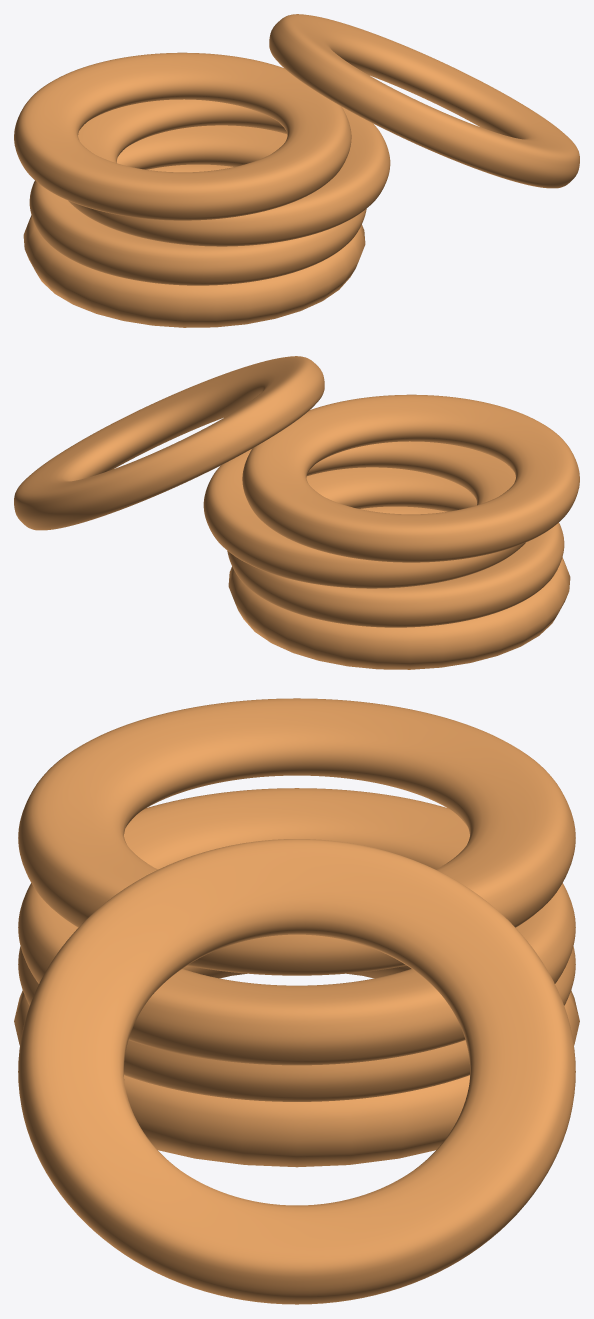
Rendered from shakra rings.glb.
3 views of the same model, one above another, from view 1: azimuth 30°, elevation 25°; view 2: azimuth 150°, elevation 25°; view 3: azimuth 270°, elevation 25° (orthographic). The views are drawn at different scales.
Parts seen in each view (by area): view 1: Circle.003, Circle.004, Circle.001, Circle.002, Circle; view 2: Circle.003, Circle.004, Circle.001, Circle.002, Circle; view 3: Circle.004, Circle.003, Circle.002, Circle, Circle.001.
Boxes of the visible parts, x1,y1,x2,y2 form: Circle.003: (14, 52, 351, 220); Circle.004: (269, 14, 579, 188); Circle.001: (29, 125, 366, 285); Circle.002: (68, 99, 390, 246); Circle: (23, 164, 365, 327); Circle.003: (242, 394, 579, 562); Circle.004: (14, 356, 324, 530); Circle.001: (227, 467, 564, 627); Circle.002: (203, 441, 525, 588); Circle: (228, 506, 570, 669); Circle.004: (18, 839, 575, 1304); Circle.003: (18, 698, 575, 975); Circle.002: (18, 788, 575, 1065); Circle: (14, 965, 579, 1167); Circle.001: (18, 946, 575, 1101).
Size of the model in its own units: 7.54 by 2.59 by 4.31.
